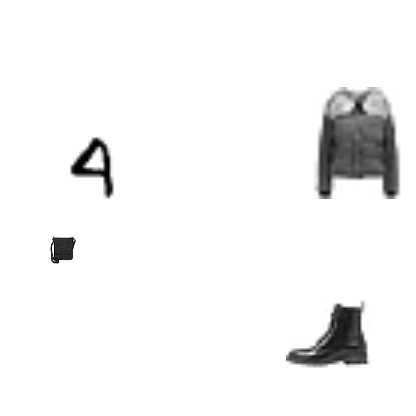4: (50, 120, 134, 204)
Ankle_boot: (286, 292, 370, 376)
Bag: (49, 236, 77, 264)
Coat: (299, 87, 411, 199)
